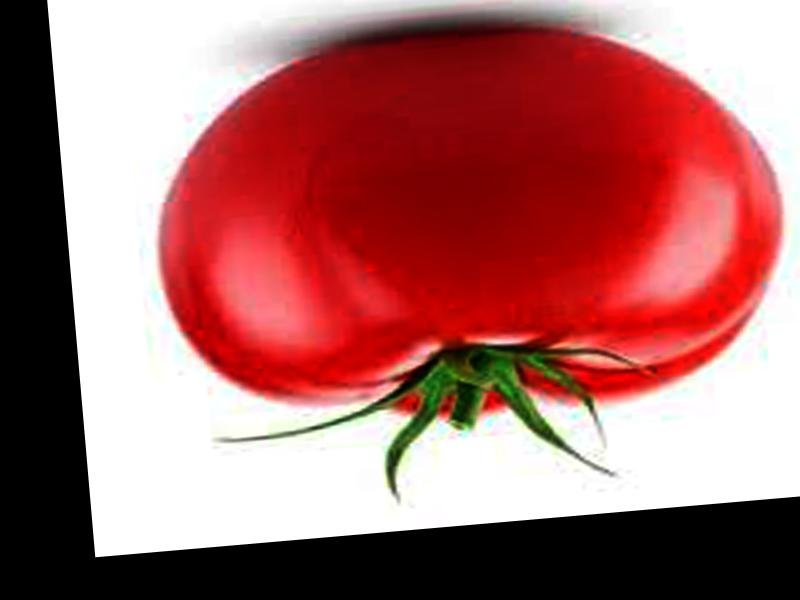Tomato: (143, 8, 798, 435)
